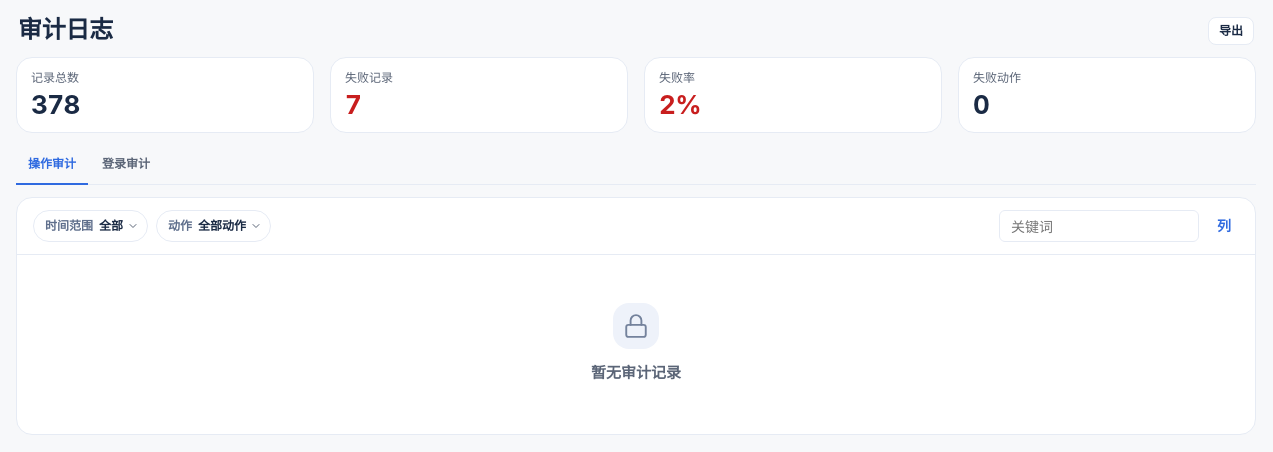
AuditLogs 传统分页（方案 A） › 登录审计时间（P3）：当天记录也带日期（MM-DD HH:MM:SS）
The image size is (1273, 452).
Click the tab with class "tab" showing "登录审计" at (126, 165), box [90,145,162,185]
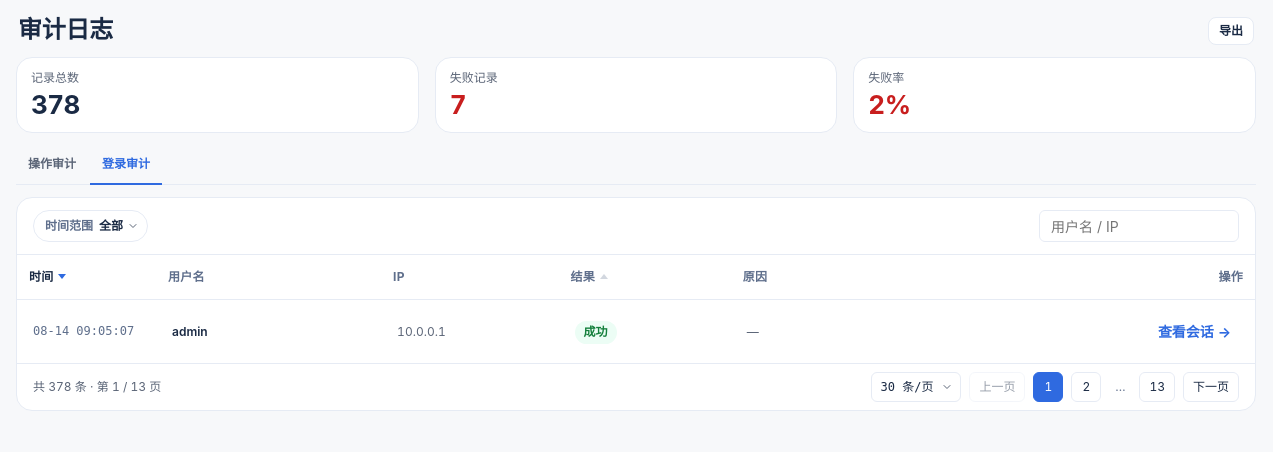
Result: the text "08-14 09:05:07" is shown at [17,299,156,363]
